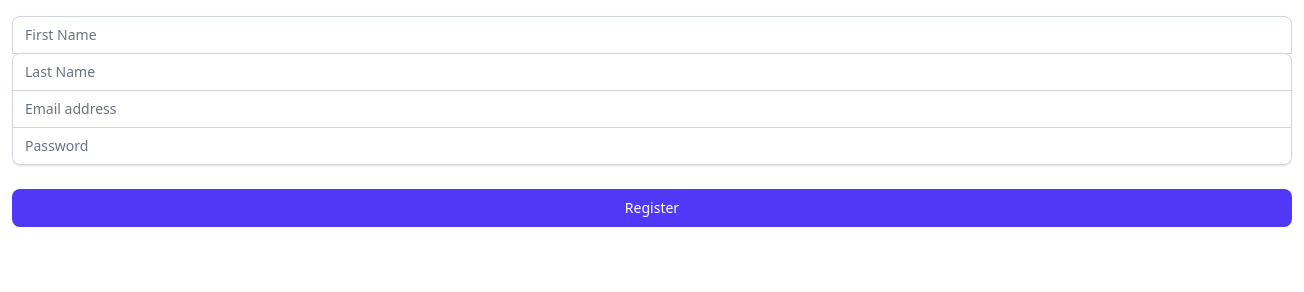
Test case: RegistrationForm Component › validates first name is required
Click the button "Register".
click(652, 208)  # box x1=12 y1=189 x2=1292 y2=227
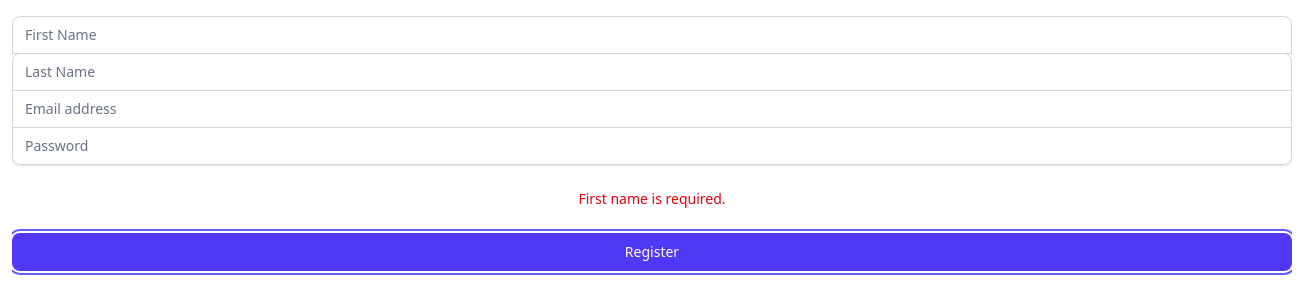
Result: the text "First name is required." is shown at x1=578 y1=189 x2=726 y2=208
